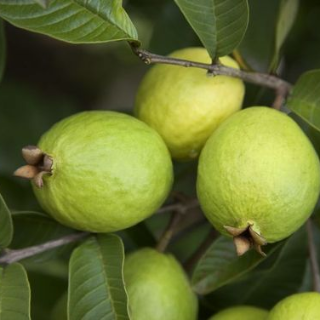oi: (196, 104, 319, 251), (31, 108, 174, 231)
